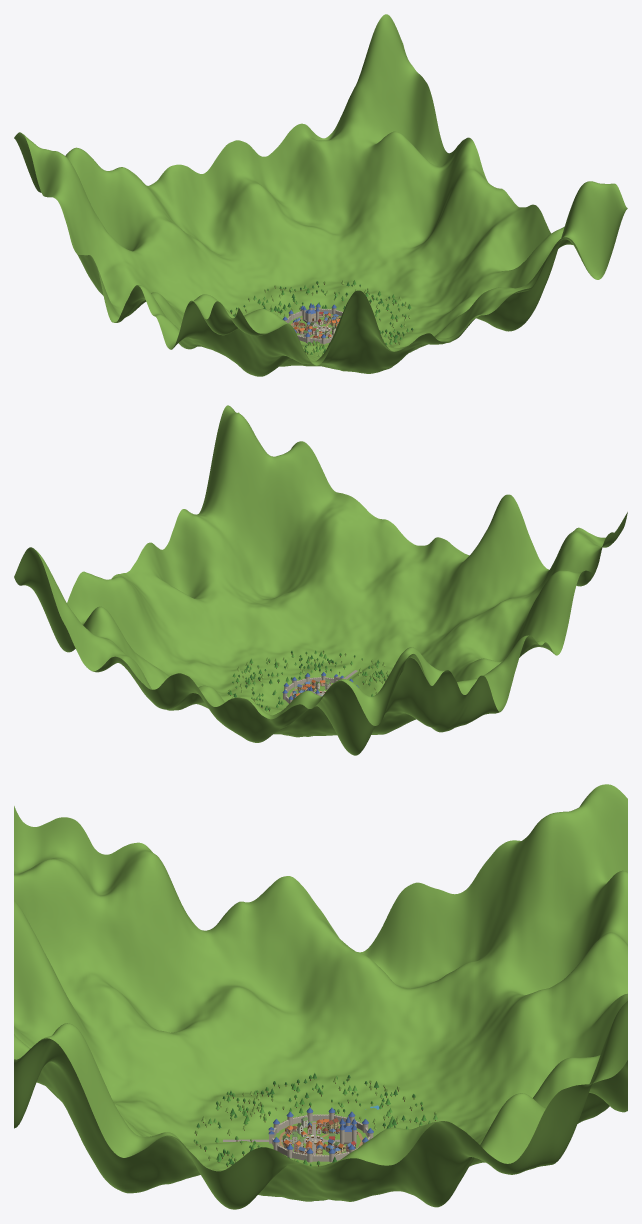
The model's file is kingdom.glb.
3 views of the same model, one above another, from view 1: azimuth 30°, elevation 25°; view 2: azimuth 150°, elevation 25°; view 3: azimuth 270°, elevation 25° (orthographic). The views are drawn at different scales.
Parts seen in each view (by area): view 1: Terrain-col, TreeLeaves; view 2: Terrain-col, TreeLeaves; view 3: Terrain-col, TreeLeaves, Walls-col, Houses-col, HouseRoofs.
Boxes of the visible parts, x1,y1,x2,y2 form: Terrain-col: (14,14,627,376); TreeLeaves: (230,280,413,356); Terrain-col: (14,405,627,755); TreeLeaves: (227,650,388,710); Terrain-col: (14,784,627,1209); TreeLeaves: (194,1073,437,1166); Walls-col: (269,1112,373,1162); Houses-col: (282,1117,357,1155); HouseRoofs: (282,1117,357,1153).
Bounding box in the file's own units: 720 × 334 × 720.
